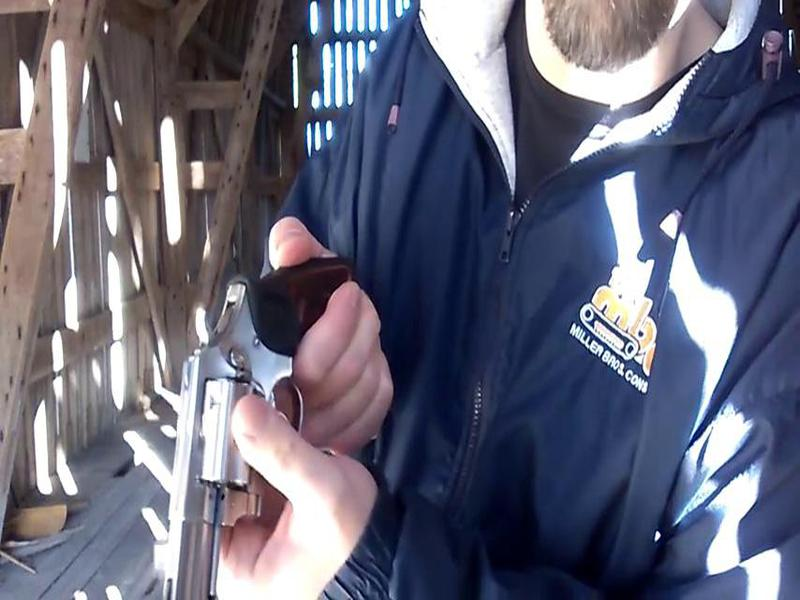Revolver: (147, 215, 336, 600)
